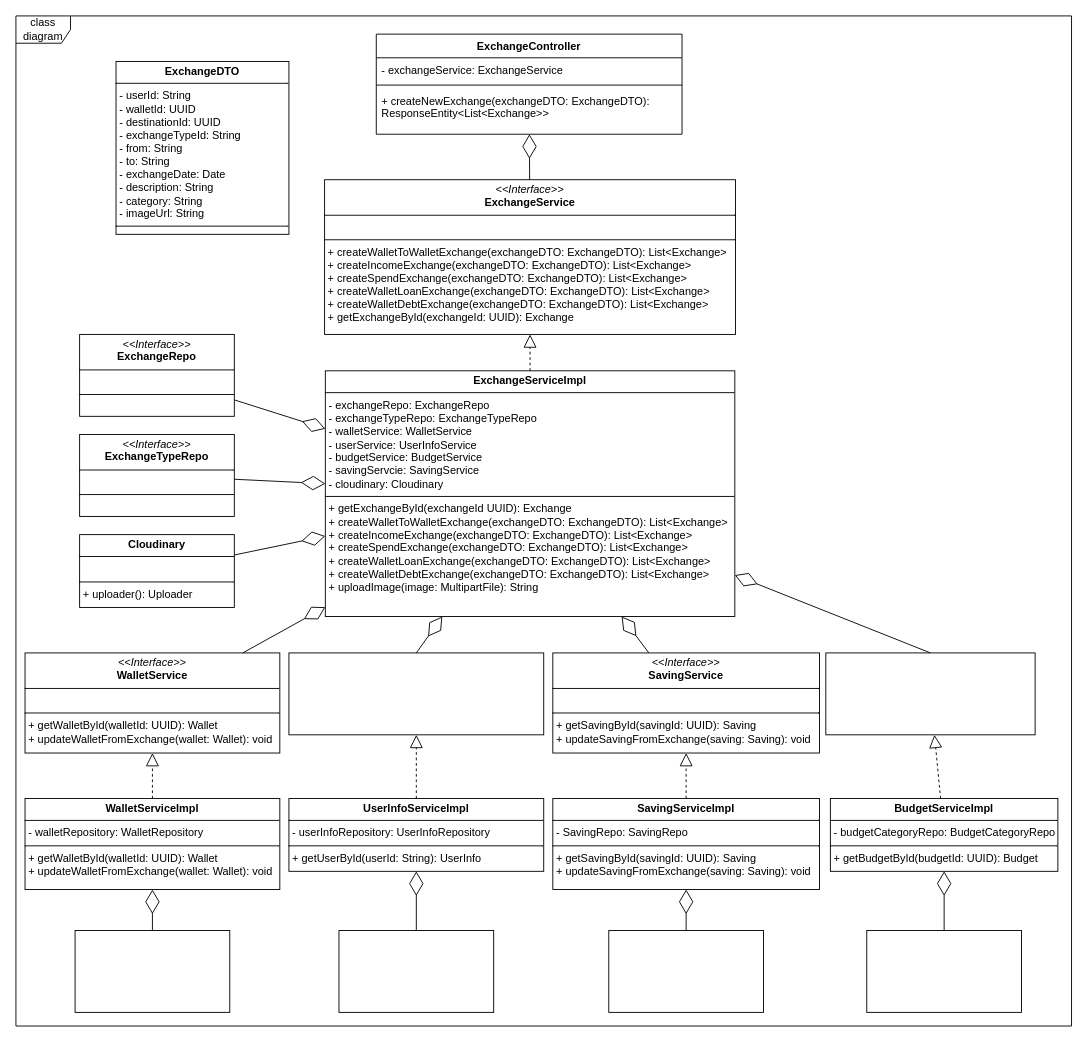
Image size: 1087x1042. Some labels were removed from this diagram. Here are the shapes that lost their labels. From the top down, the box of each, then its label:
(288, 652, 544, 735): <<Interface>> UserInfoService + getUserById(userId: String): UserInfo
(825, 652, 1035, 735): <<Interface>> BudgetService + getBudgetById(budgetId: UUID): Budget
(74, 930, 230, 1012): <<Interface>> WalletRepository
(338, 930, 494, 1012): <<Interface>> UserInfoRepository
(608, 930, 763, 1012): <<Interface>> SavingRepo
(866, 930, 1021, 1012): <<Interface>> BudgetCategoryRepo
